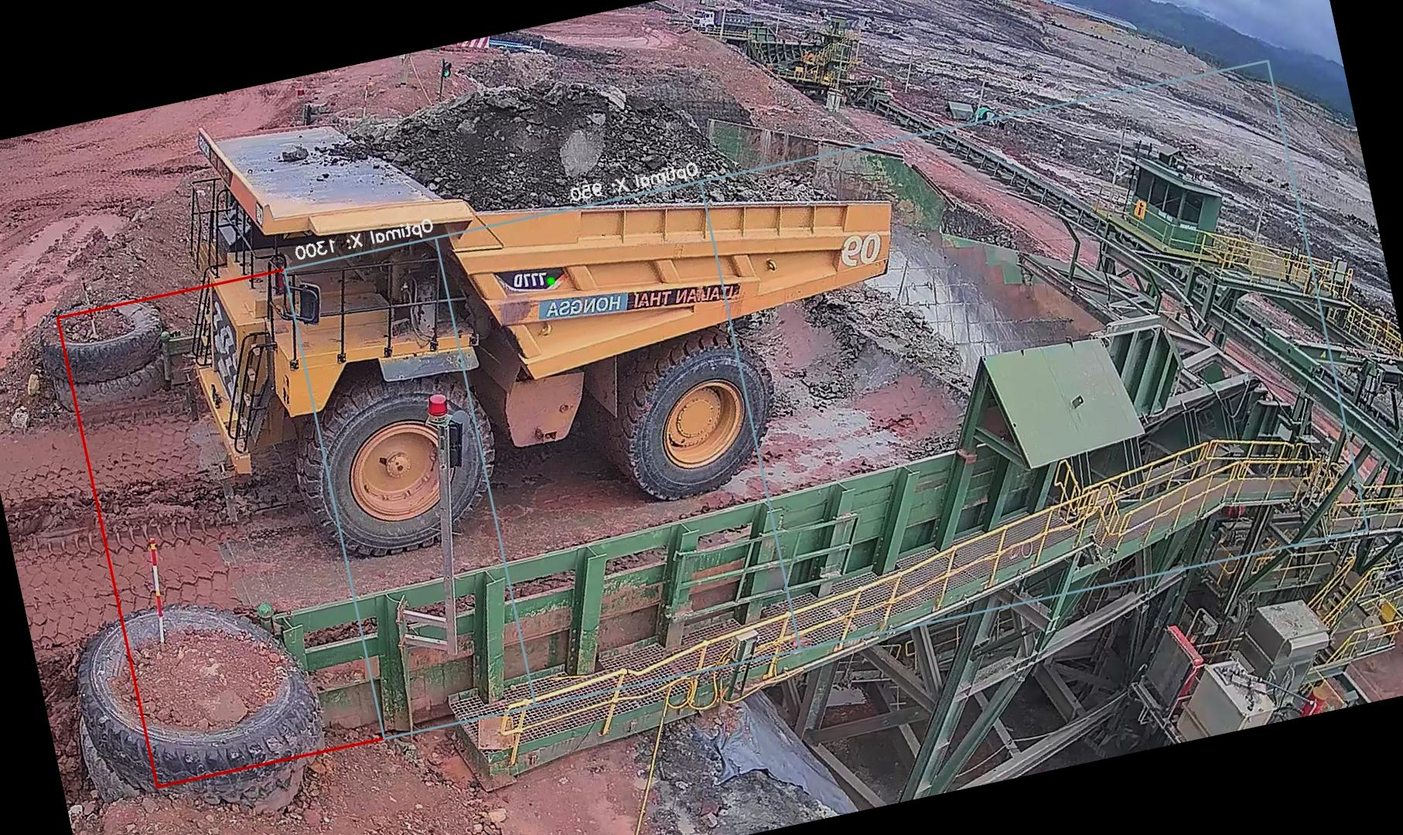company: (526, 259, 755, 341)
full_load: (383, 39, 707, 260)
mining_truck: (105, 0, 952, 598)
tail_number: (830, 220, 893, 278)
truck_size: (495, 257, 573, 300)
